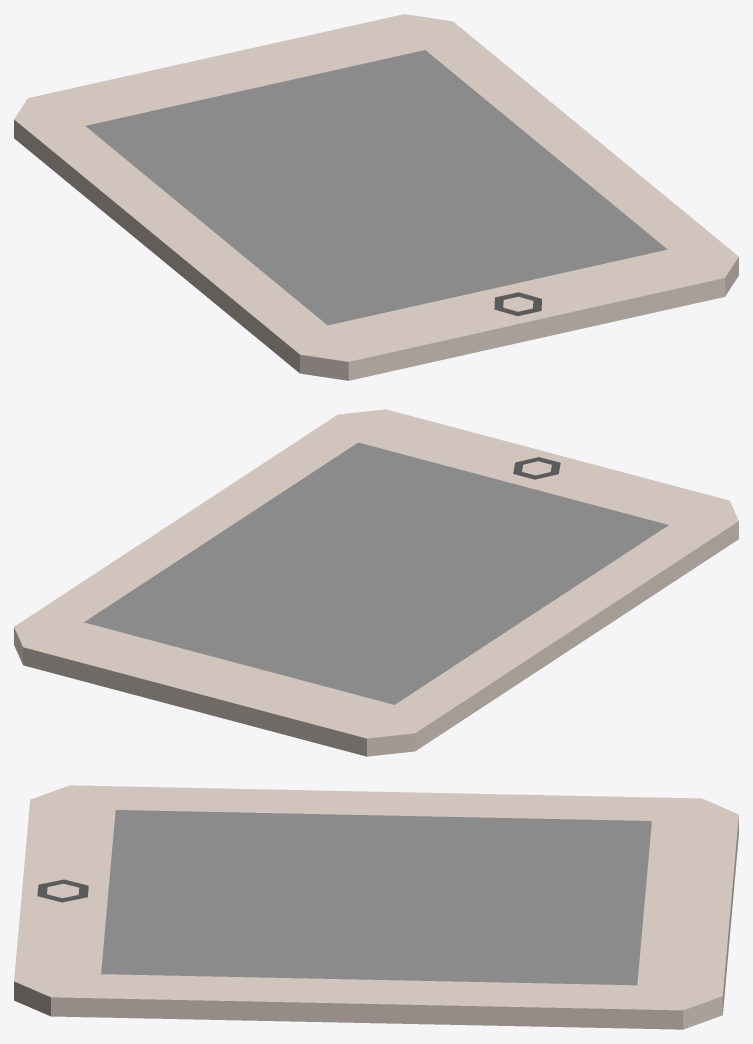
Rendered from Tablet_1.fbx.
3 renders of one model, top to bottom at view 1: azimuth 30°, elevation 25°; view 2: azimuth 150°, elevation 25°; view 3: azimuth 270°, elevation 25°, orthographic. The views are drawn at different scales.
Visible parts, largest first — view 1: Tablet_1; view 2: Tablet_1; view 3: Tablet_1.
Part boxes in pixels (x1,y1,x2,y2): Tablet_1: (14,14,738,380); Tablet_1: (14,409,738,756); Tablet_1: (14,785,738,1029).
Bounding box in the file's own units: 23.64 × 32.17 × 0.96.
